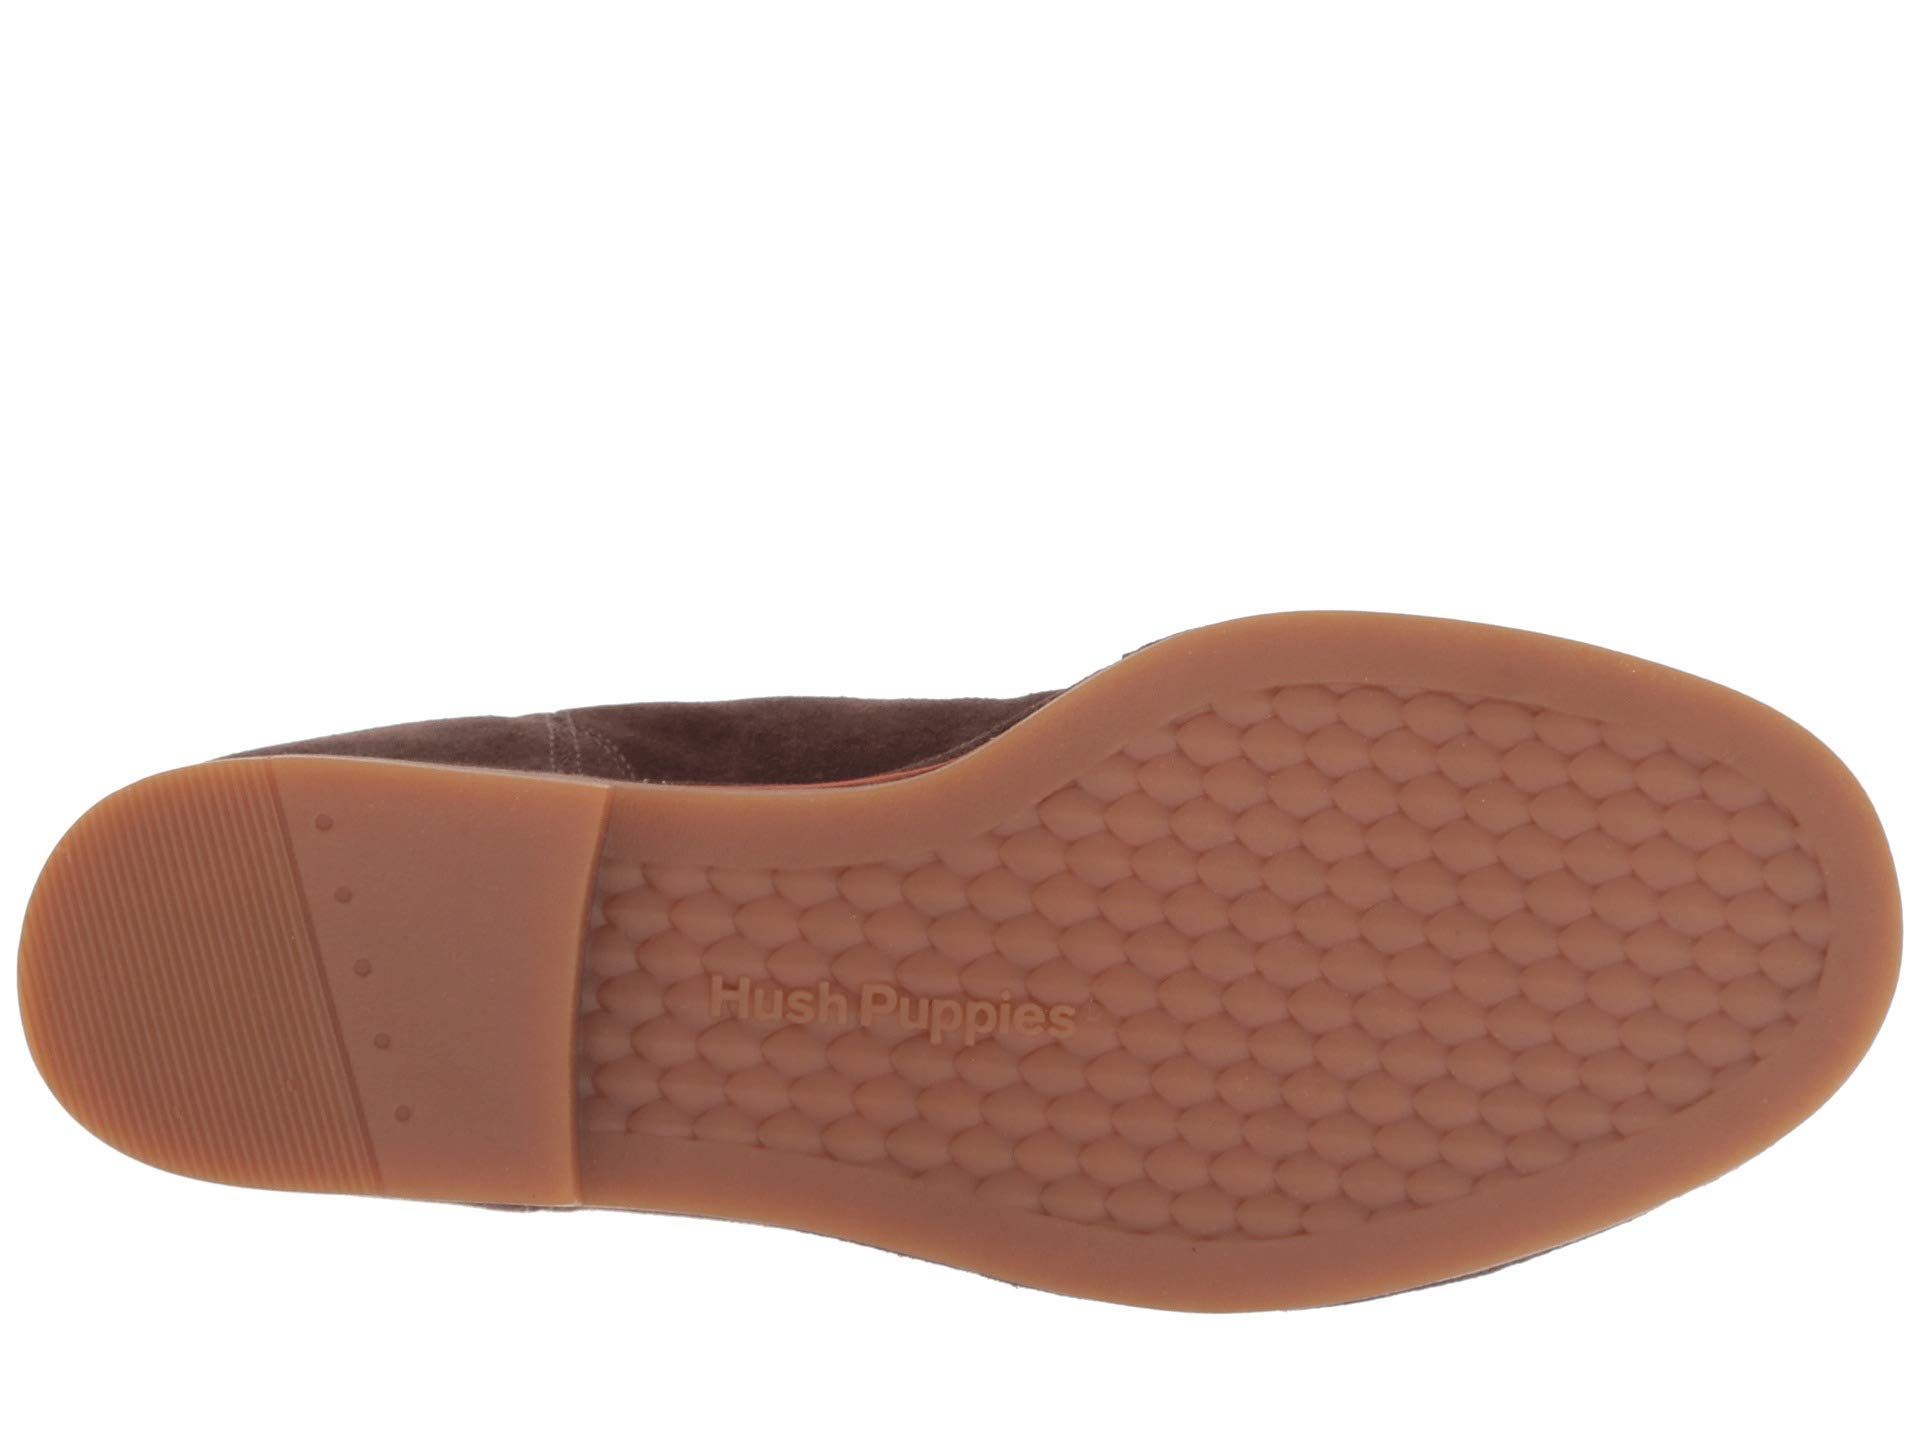circle: (157, 781, 494, 1150)
line: (157, 781, 494, 1150)
polygon: (1119, 669, 1746, 1150), (691, 926, 1099, 1091)
text: (691, 926, 1099, 1091)
